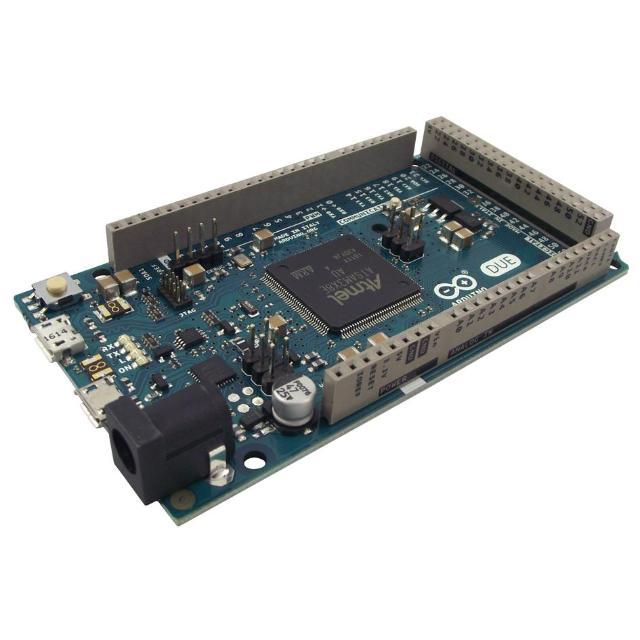Arduino-Due: (15, 119, 626, 524)
